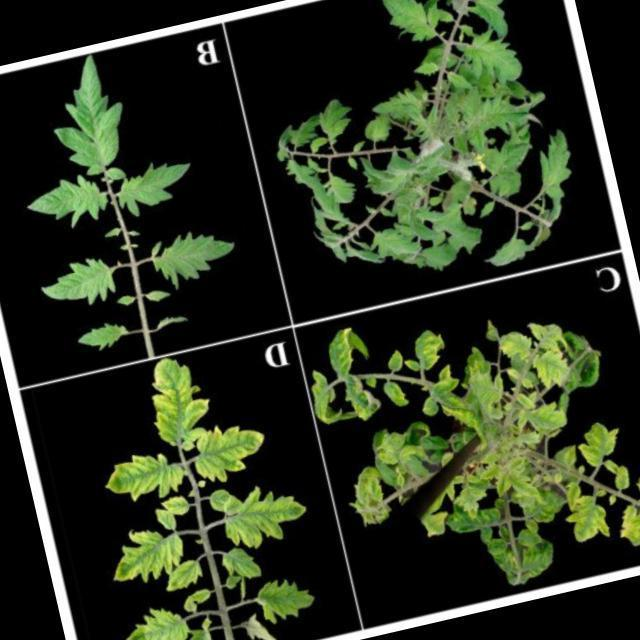Healthy Leaf: (38, 42, 137, 182), (140, 213, 242, 293), (110, 150, 202, 223), (19, 170, 111, 235), (34, 253, 118, 317), (73, 315, 138, 357)
Yellow Curl Virus: (131, 348, 217, 452), (215, 476, 310, 548), (182, 418, 274, 486), (96, 524, 190, 590), (94, 448, 183, 509), (254, 568, 322, 630), (559, 491, 616, 548), (572, 419, 626, 471), (114, 604, 191, 640), (401, 326, 451, 374), (215, 544, 264, 590), (527, 347, 574, 392), (159, 554, 207, 596), (324, 326, 360, 376), (380, 378, 410, 410), (609, 464, 633, 491), (382, 346, 404, 370)
